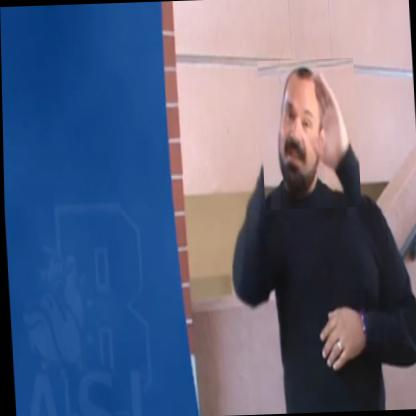Hello: (257, 58, 361, 210)
